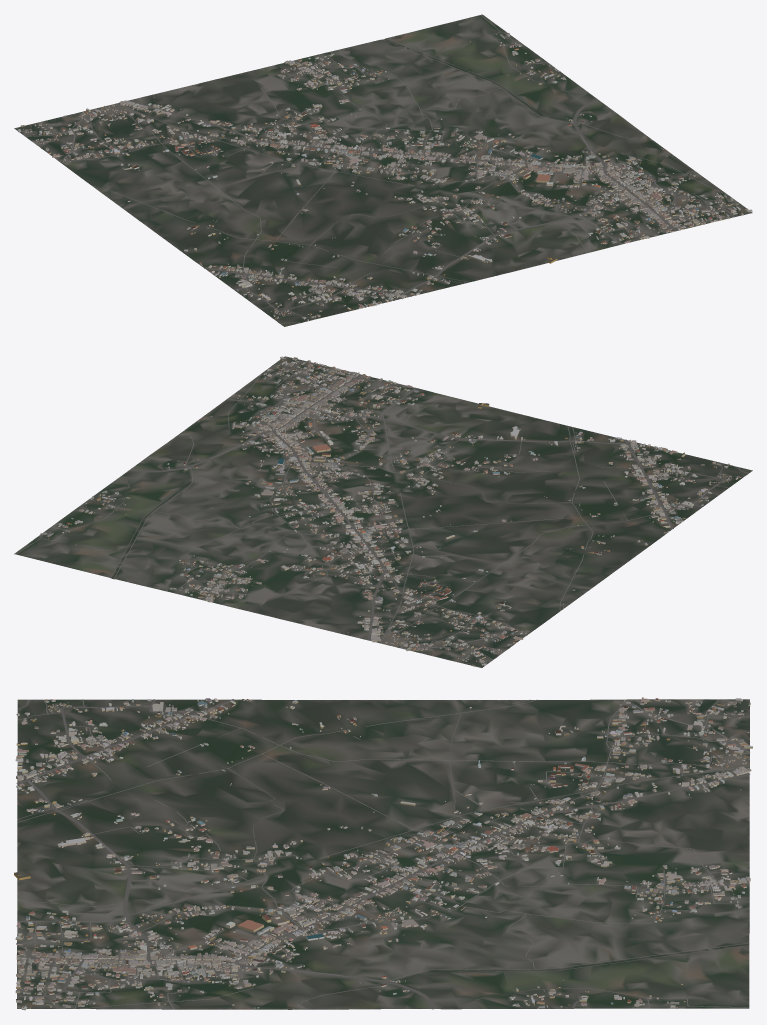
The picture shows the model from 3 angles, top to bottom: view 1: azimuth 30°, elevation 25°; view 2: azimuth 150°, elevation 25°; view 3: azimuth 270°, elevation 25°; orthographic projection. The views are drawn at different scales.
Parts seen in each view (by area): view 1: ground, buildings, roads; view 2: ground, buildings, roads; view 3: ground, buildings, roads.
Part boxes in pixels (bbox=[...]): ground: bbox=[14, 14, 752, 326]; buildings: bbox=[17, 33, 752, 321]; roads: bbox=[24, 15, 735, 323]; ground: bbox=[14, 356, 752, 667]; buildings: bbox=[40, 356, 740, 666]; roads: bbox=[16, 360, 748, 662]; ground: bbox=[17, 699, 749, 1009]; buildings: bbox=[14, 697, 752, 1010]; roads: bbox=[16, 699, 750, 1009].
Bounding box in the file's own units: 2816 × 21.22 × 2827.
